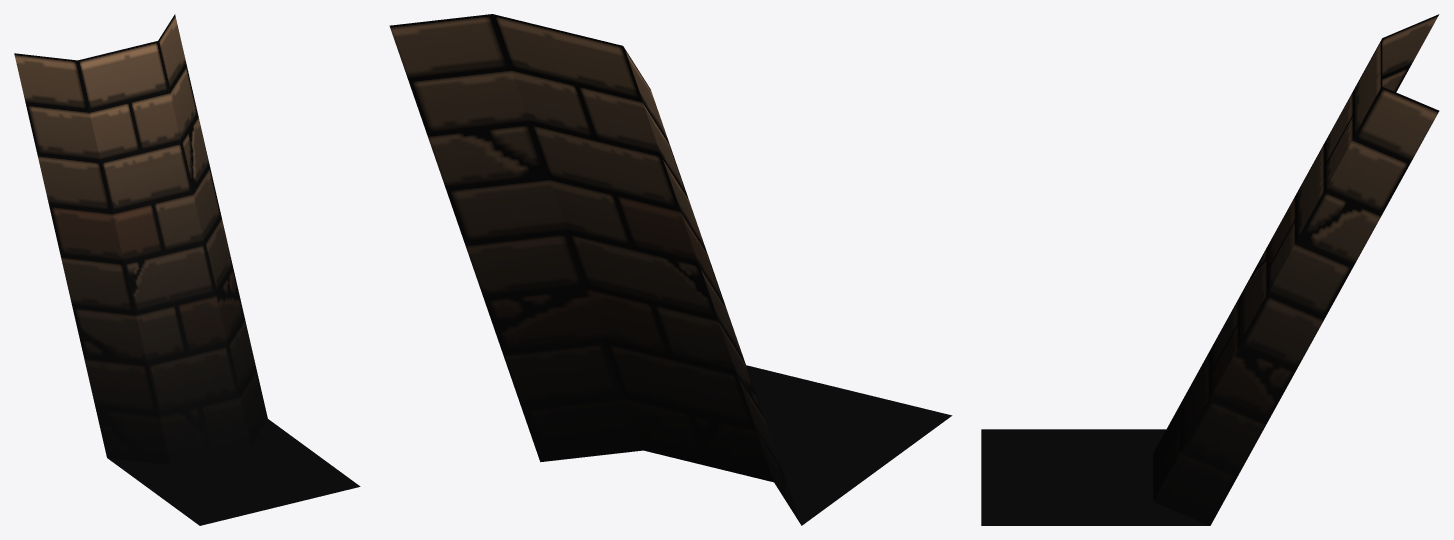
Rendered from wallBottom_pillar.FBX.
3 views of the same model, side by side, from view 1: azimuth 30°, elevation 25°; view 2: azimuth 150°, elevation 25°; view 3: azimuth 270°, elevation 25° (orthographic). The views are drawn at different scales.
Parts seen in each view (by area): view 1: wallBottom_pillar; view 2: wallBottom_pillar; view 3: wallBottom_pillar.
Part boxes in pixels (x1,y1,x2,y2): wallBottom_pillar: (14, 14, 360, 525); wallBottom_pillar: (389, 14, 952, 525); wallBottom_pillar: (981, 14, 1439, 525).
Bounding box in the file's own units: 2 × 4 × 4.
1 material, 1 textured.
